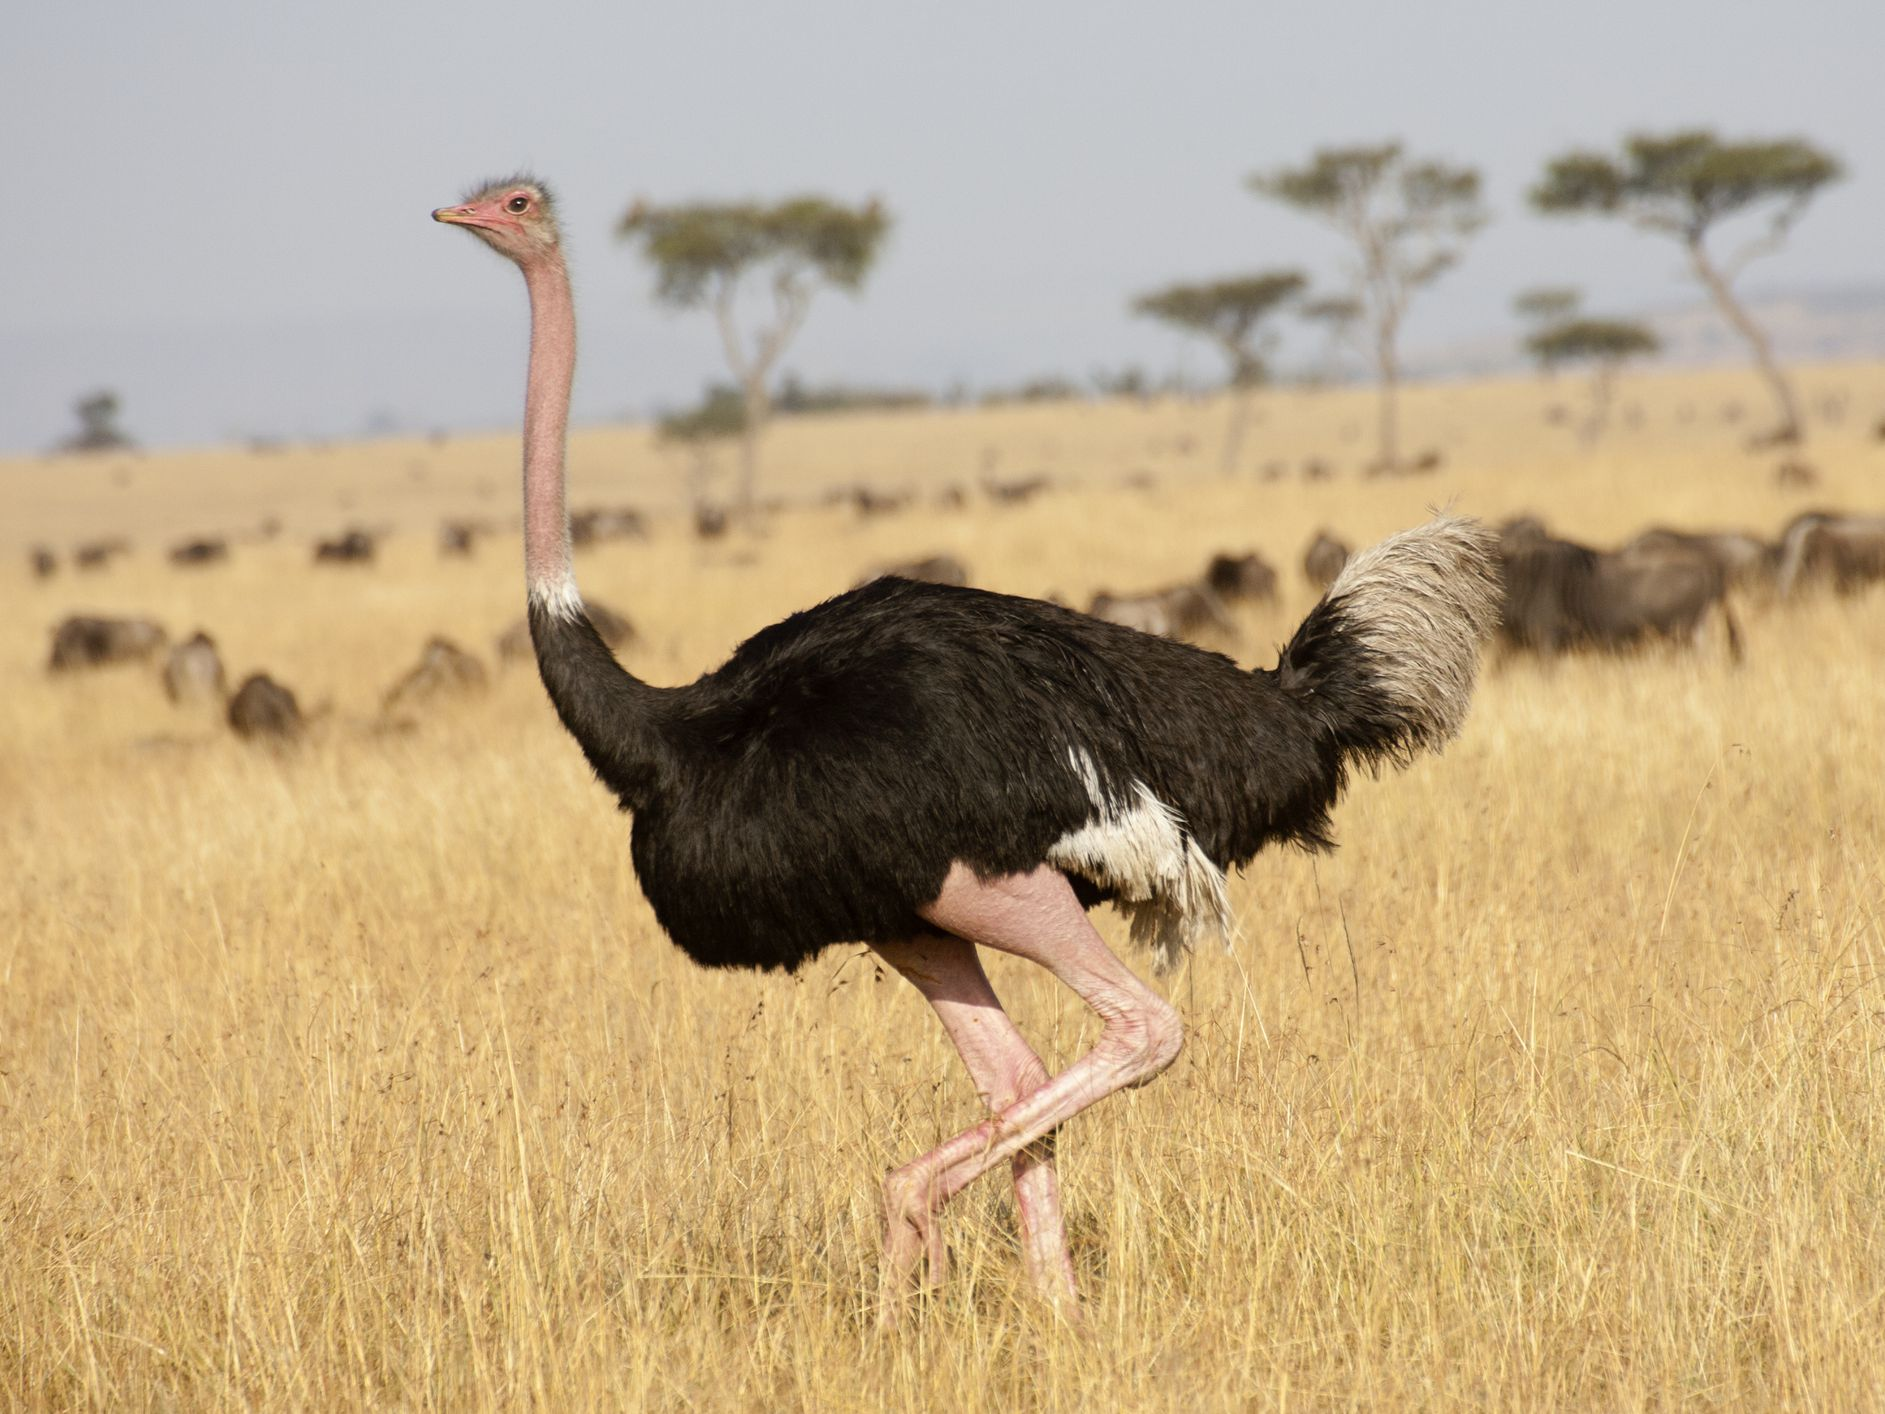bird: (391, 134, 1537, 1331)
